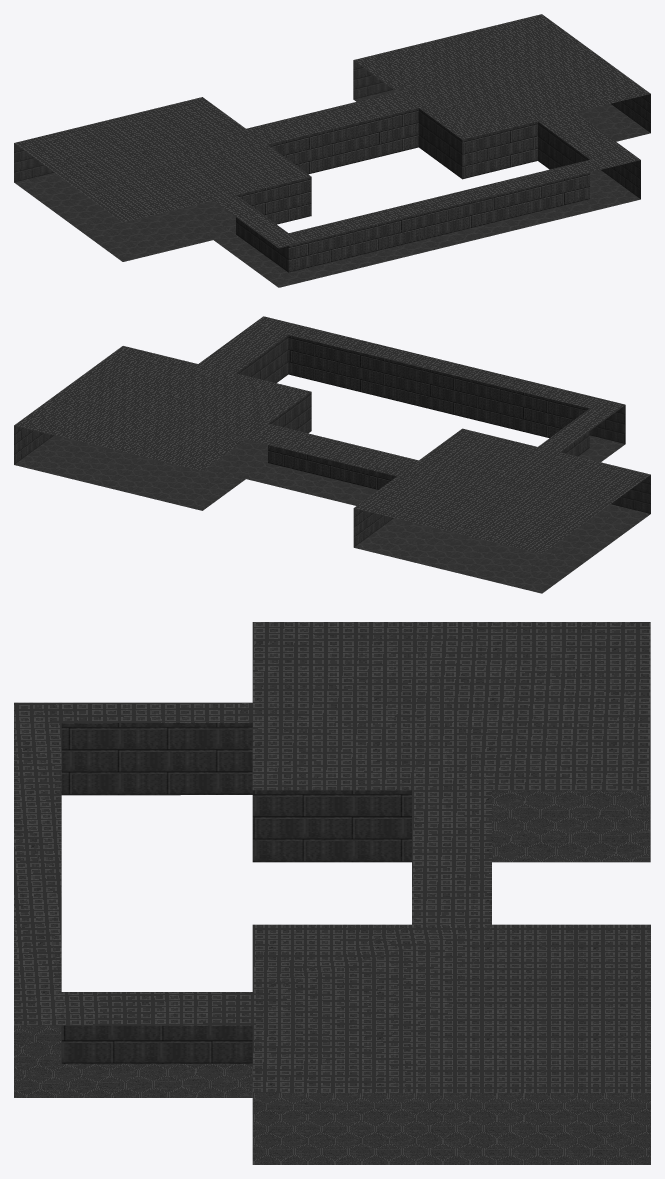
The model's file is TestRoom.glb.
3 renders of one model, top to bottom at view 1: azimuth 30°, elevation 25°; view 2: azimuth 150°, elevation 25°; view 3: azimuth 270°, elevation 25°, orthographic. The views are drawn at different scales.
Parts seen in each view (by area): view 1: Plane; view 2: Plane; view 3: Plane.
Part boxes in pixels (x1,y1,x2,y2): Plane: (14,14,650,287); Plane: (14,316,650,593); Plane: (14,622,650,1164).
Bounding box in the file's own units: 28 × 2 × 16.01.
3 materials, 3 textured.
